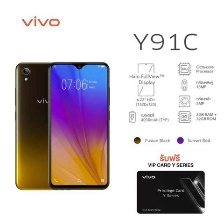book: (133, 169, 206, 215)
phone: (44, 59, 112, 193), (10, 61, 74, 192)
